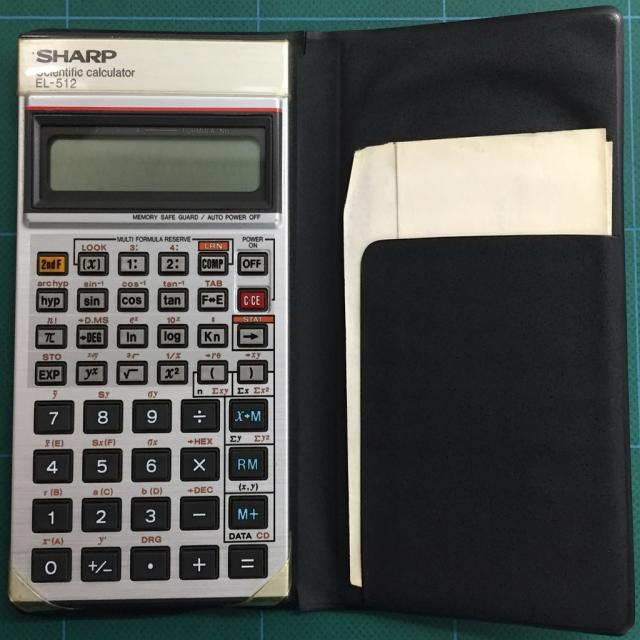Calculator: (8, 27, 294, 616)
